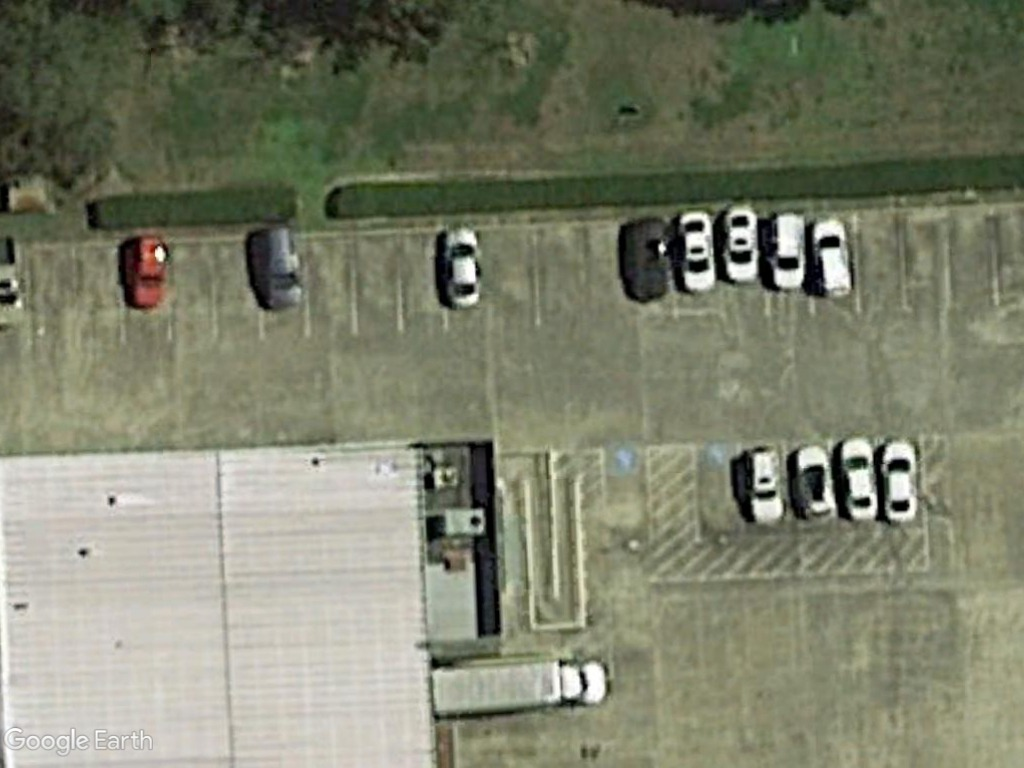car: (789, 439, 843, 525), (260, 223, 308, 316), (436, 223, 485, 314), (672, 202, 719, 296), (838, 431, 883, 526), (766, 203, 811, 293), (743, 437, 786, 531), (809, 214, 856, 297), (721, 198, 762, 291), (880, 434, 920, 527), (125, 233, 172, 312)
truck: (430, 654, 613, 722)
